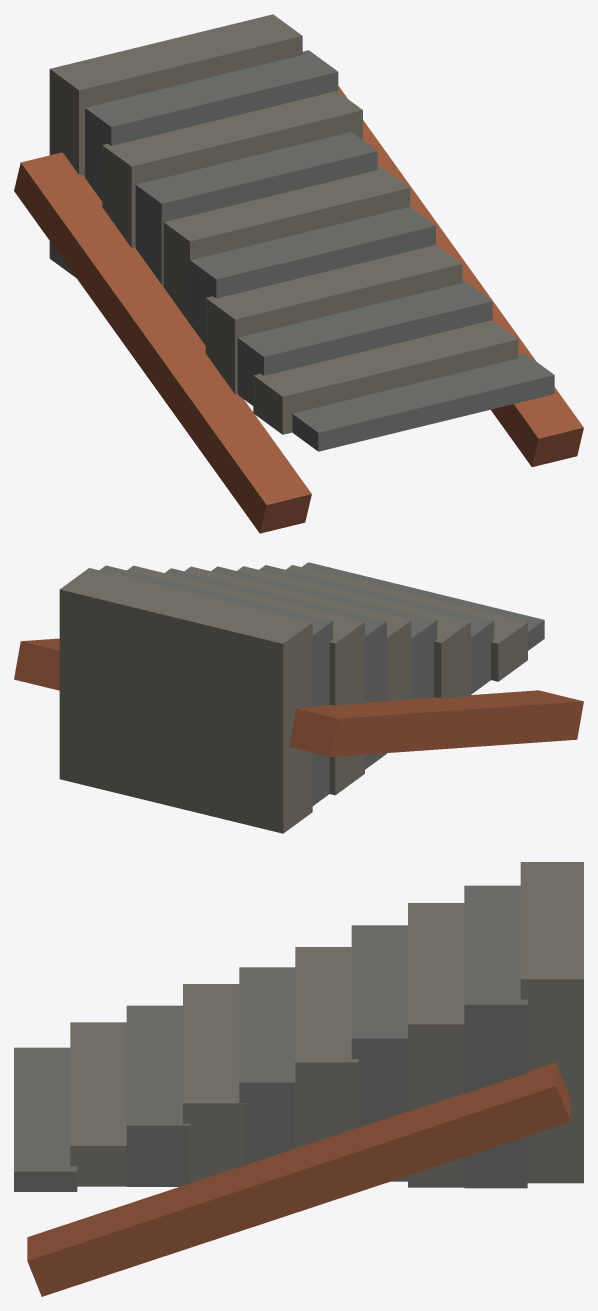
Rendered from sanseong_stairs.glb.
3 renders of one model, top to bottom at view 1: azimuth 30°, elevation 25°; view 2: azimuth 150°, elevation 25°; view 3: azimuth 270°, elevation 25°, orthographic. The views are drawn at different scales.
Parts seen in each view (by area): view 1: sanseong_stairs; view 2: sanseong_stairs; view 3: sanseong_stairs.
Boxes of the visible parts, x1,y1,x2,y2 form: sanseong_stairs: (14, 14, 583, 533); sanseong_stairs: (14, 562, 583, 833); sanseong_stairs: (14, 862, 583, 1296).
Size of the model in its own units: 2.8 by 2.28 by 4.05.
